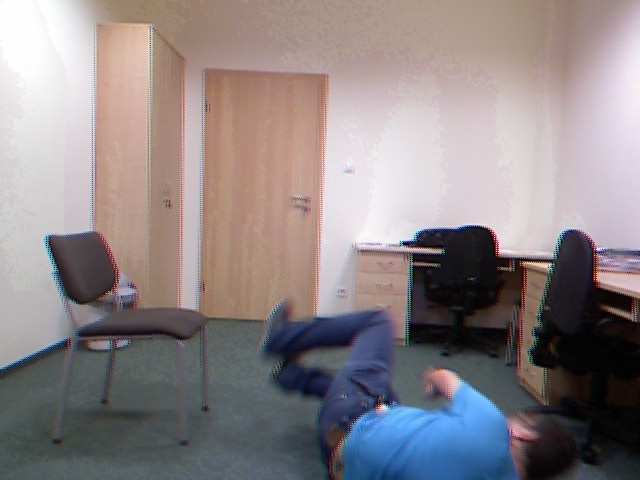fall: (260, 285, 588, 480)
